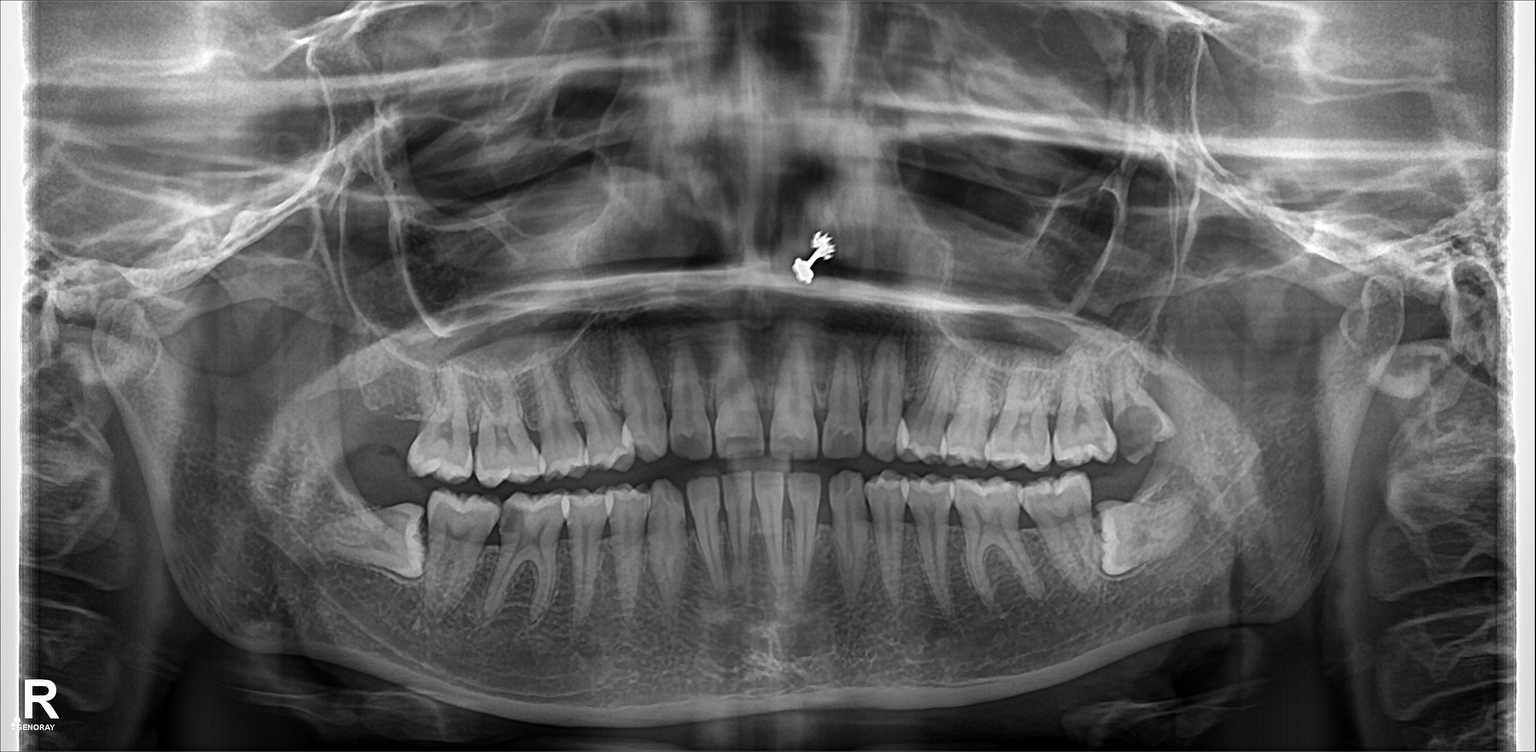Dental Caries: (1108, 406, 1170, 462), (499, 508, 521, 539)
Impacted Third Molar: (311, 512, 429, 573), (1095, 508, 1190, 569)
Missing Tooth: (343, 365, 384, 459), (378, 376, 414, 454)
